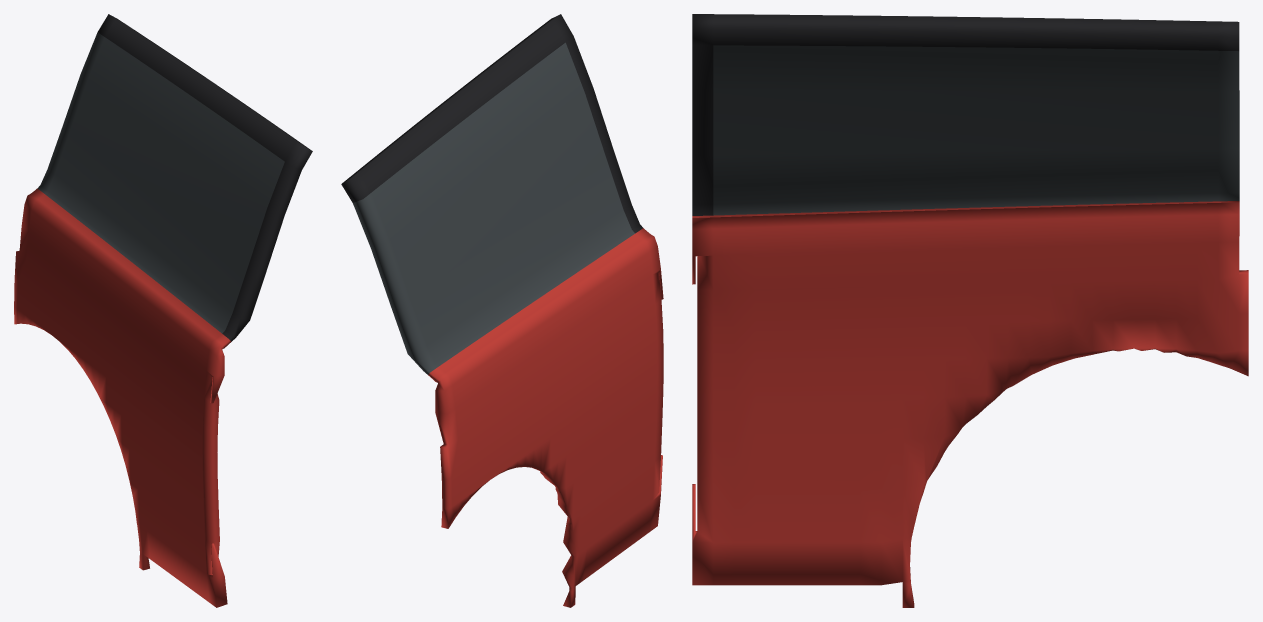
File: Hatch_Door_RR.fbx
3 views of the same model, side by side, from view 1: azimuth 30°, elevation 25°; view 2: azimuth 150°, elevation 25°; view 3: azimuth 270°, elevation 25° (orthographic). The views are drawn at different scales.
Visible parts, largest first — view 1: Hatch_Door_RR_LOD0; view 2: Hatch_Door_RR_LOD0; view 3: Hatch_Door_RR_LOD0.
Part boxes in pixels (x1,y1,x2,y2): Hatch_Door_RR_LOD0: [14, 14, 312, 607]; Hatch_Door_RR_LOD0: [341, 14, 663, 607]; Hatch_Door_RR_LOD0: [692, 14, 1248, 607].
Size of what is drawn, in the model's own units: 0.2824 by 1.19 by 0.9255.
